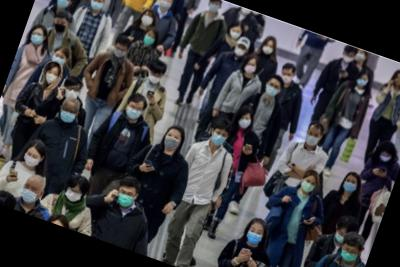with_mask: (19, 183, 43, 207), (114, 187, 138, 211), (245, 225, 267, 249), (57, 105, 80, 127), (338, 245, 362, 265), (22, 149, 44, 170), (63, 185, 85, 205), (163, 132, 183, 153), (299, 176, 319, 196), (211, 129, 230, 150), (304, 129, 323, 150), (263, 80, 282, 100), (126, 103, 145, 122), (51, 17, 70, 35), (28, 29, 47, 47), (237, 114, 255, 133), (342, 176, 360, 195), (334, 228, 352, 247), (64, 85, 81, 103), (44, 68, 60, 87), (140, 12, 156, 29), (51, 52, 68, 68), (377, 150, 395, 165), (112, 44, 128, 60), (148, 71, 164, 87), (280, 70, 296, 86), (143, 32, 158, 48), (243, 60, 258, 76), (233, 44, 248, 59), (261, 41, 276, 56), (355, 76, 370, 90), (342, 52, 357, 65), (355, 50, 367, 64), (230, 28, 243, 40)
without_mask: (393, 73, 400, 89)
